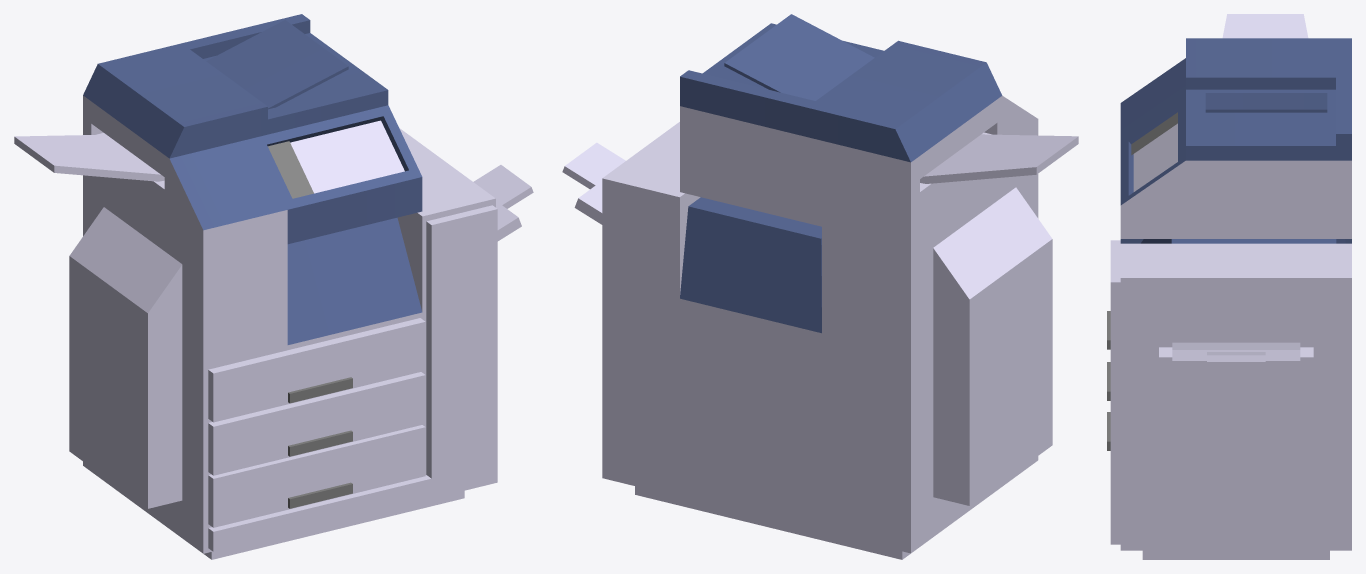
The model's file is printer.fbx.
3 views of the same model, side by side, from view 1: azimuth 30°, elevation 25°; view 2: azimuth 150°, elevation 25°; view 3: azimuth 270°, elevation 25° (orthographic). The views are drawn at different scales.
Parts seen in each view (by area): view 1: printer; view 2: printer; view 3: printer.
Boxes of the visible parts, <box> form: printer: <box>14,14,533,559</box>; printer: <box>562,14,1078,559</box>; printer: <box>1107,14,1351,559</box>.
Bounding box in the file's own units: 128 × 111 × 60.1.
